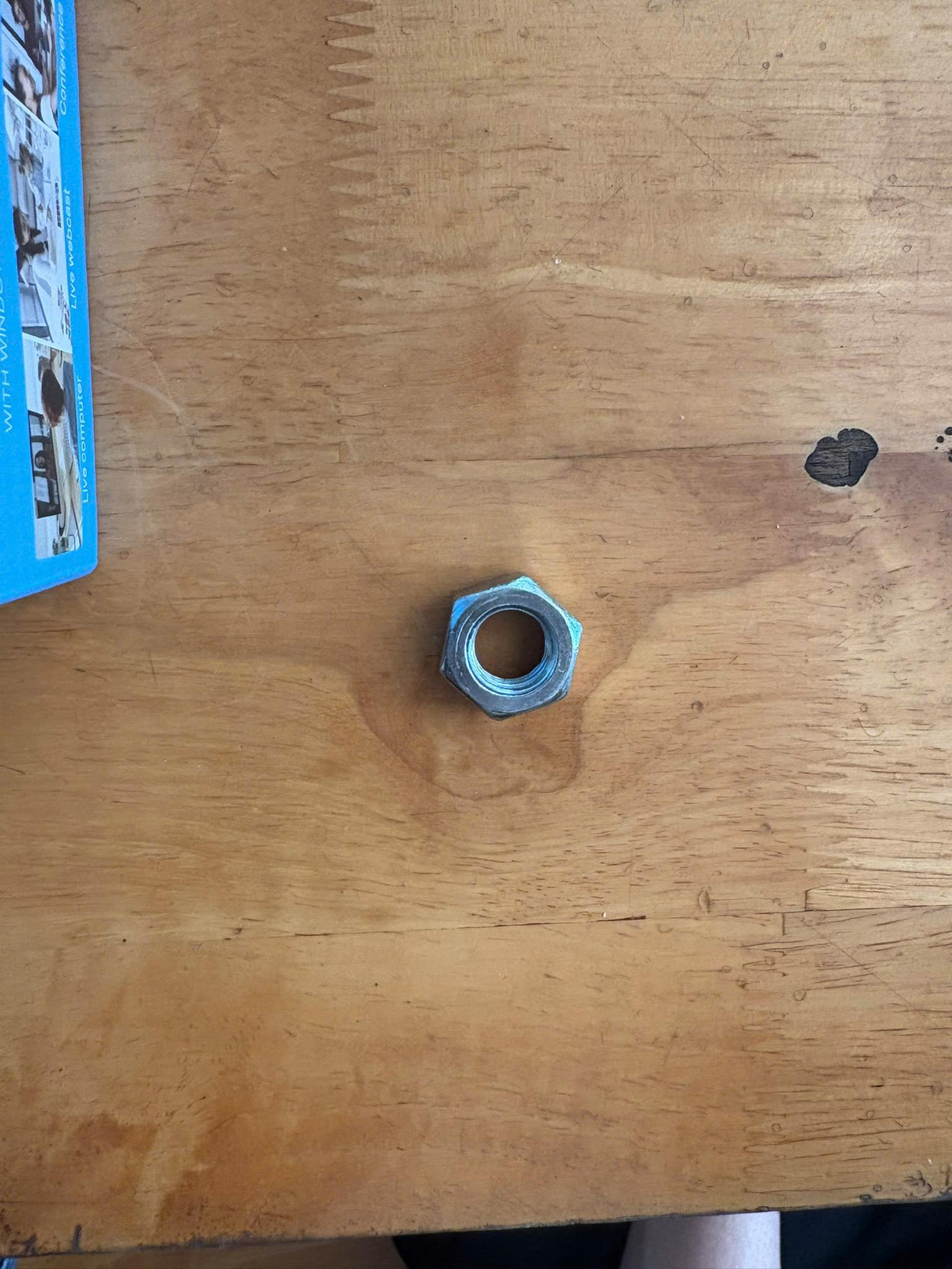nut: (436, 576, 599, 726)
